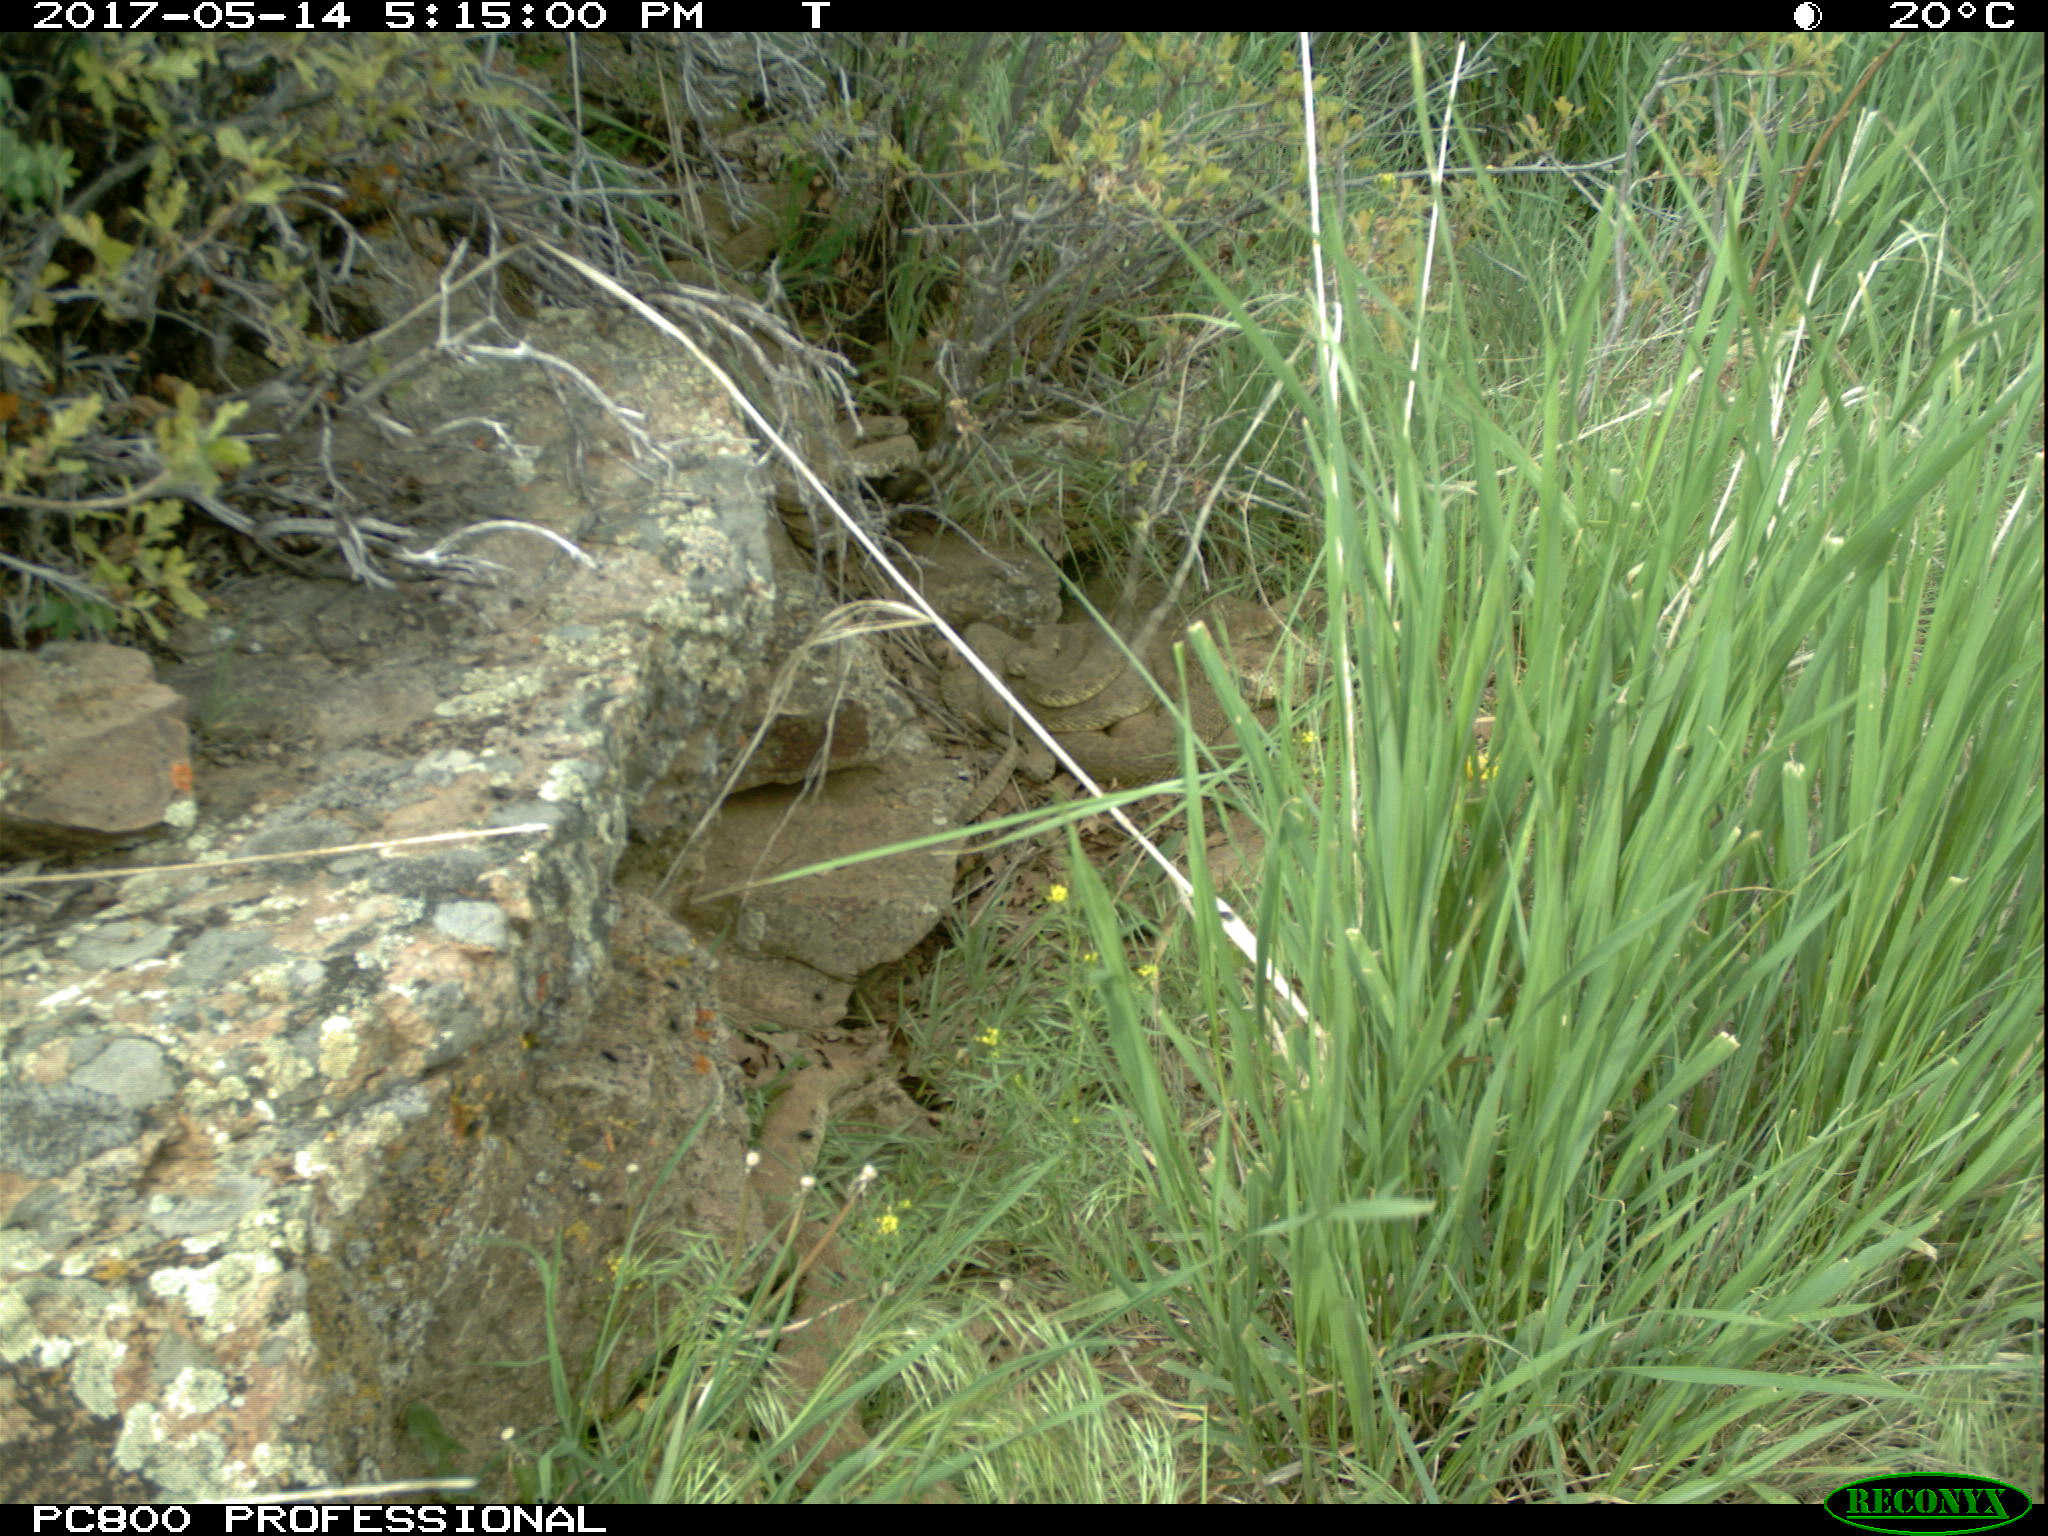snake: (753, 1062, 872, 1488), (935, 618, 1150, 729), (964, 721, 1206, 816), (1177, 592, 1347, 715), (827, 405, 930, 478)
